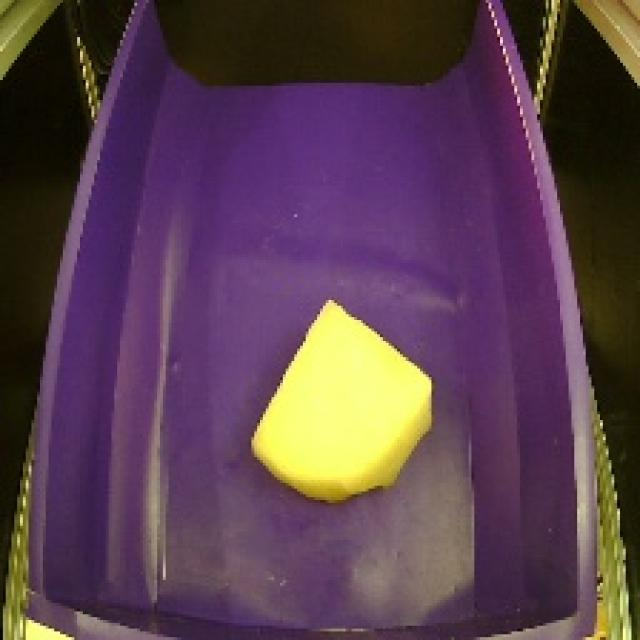potato: (246, 283, 434, 503)
